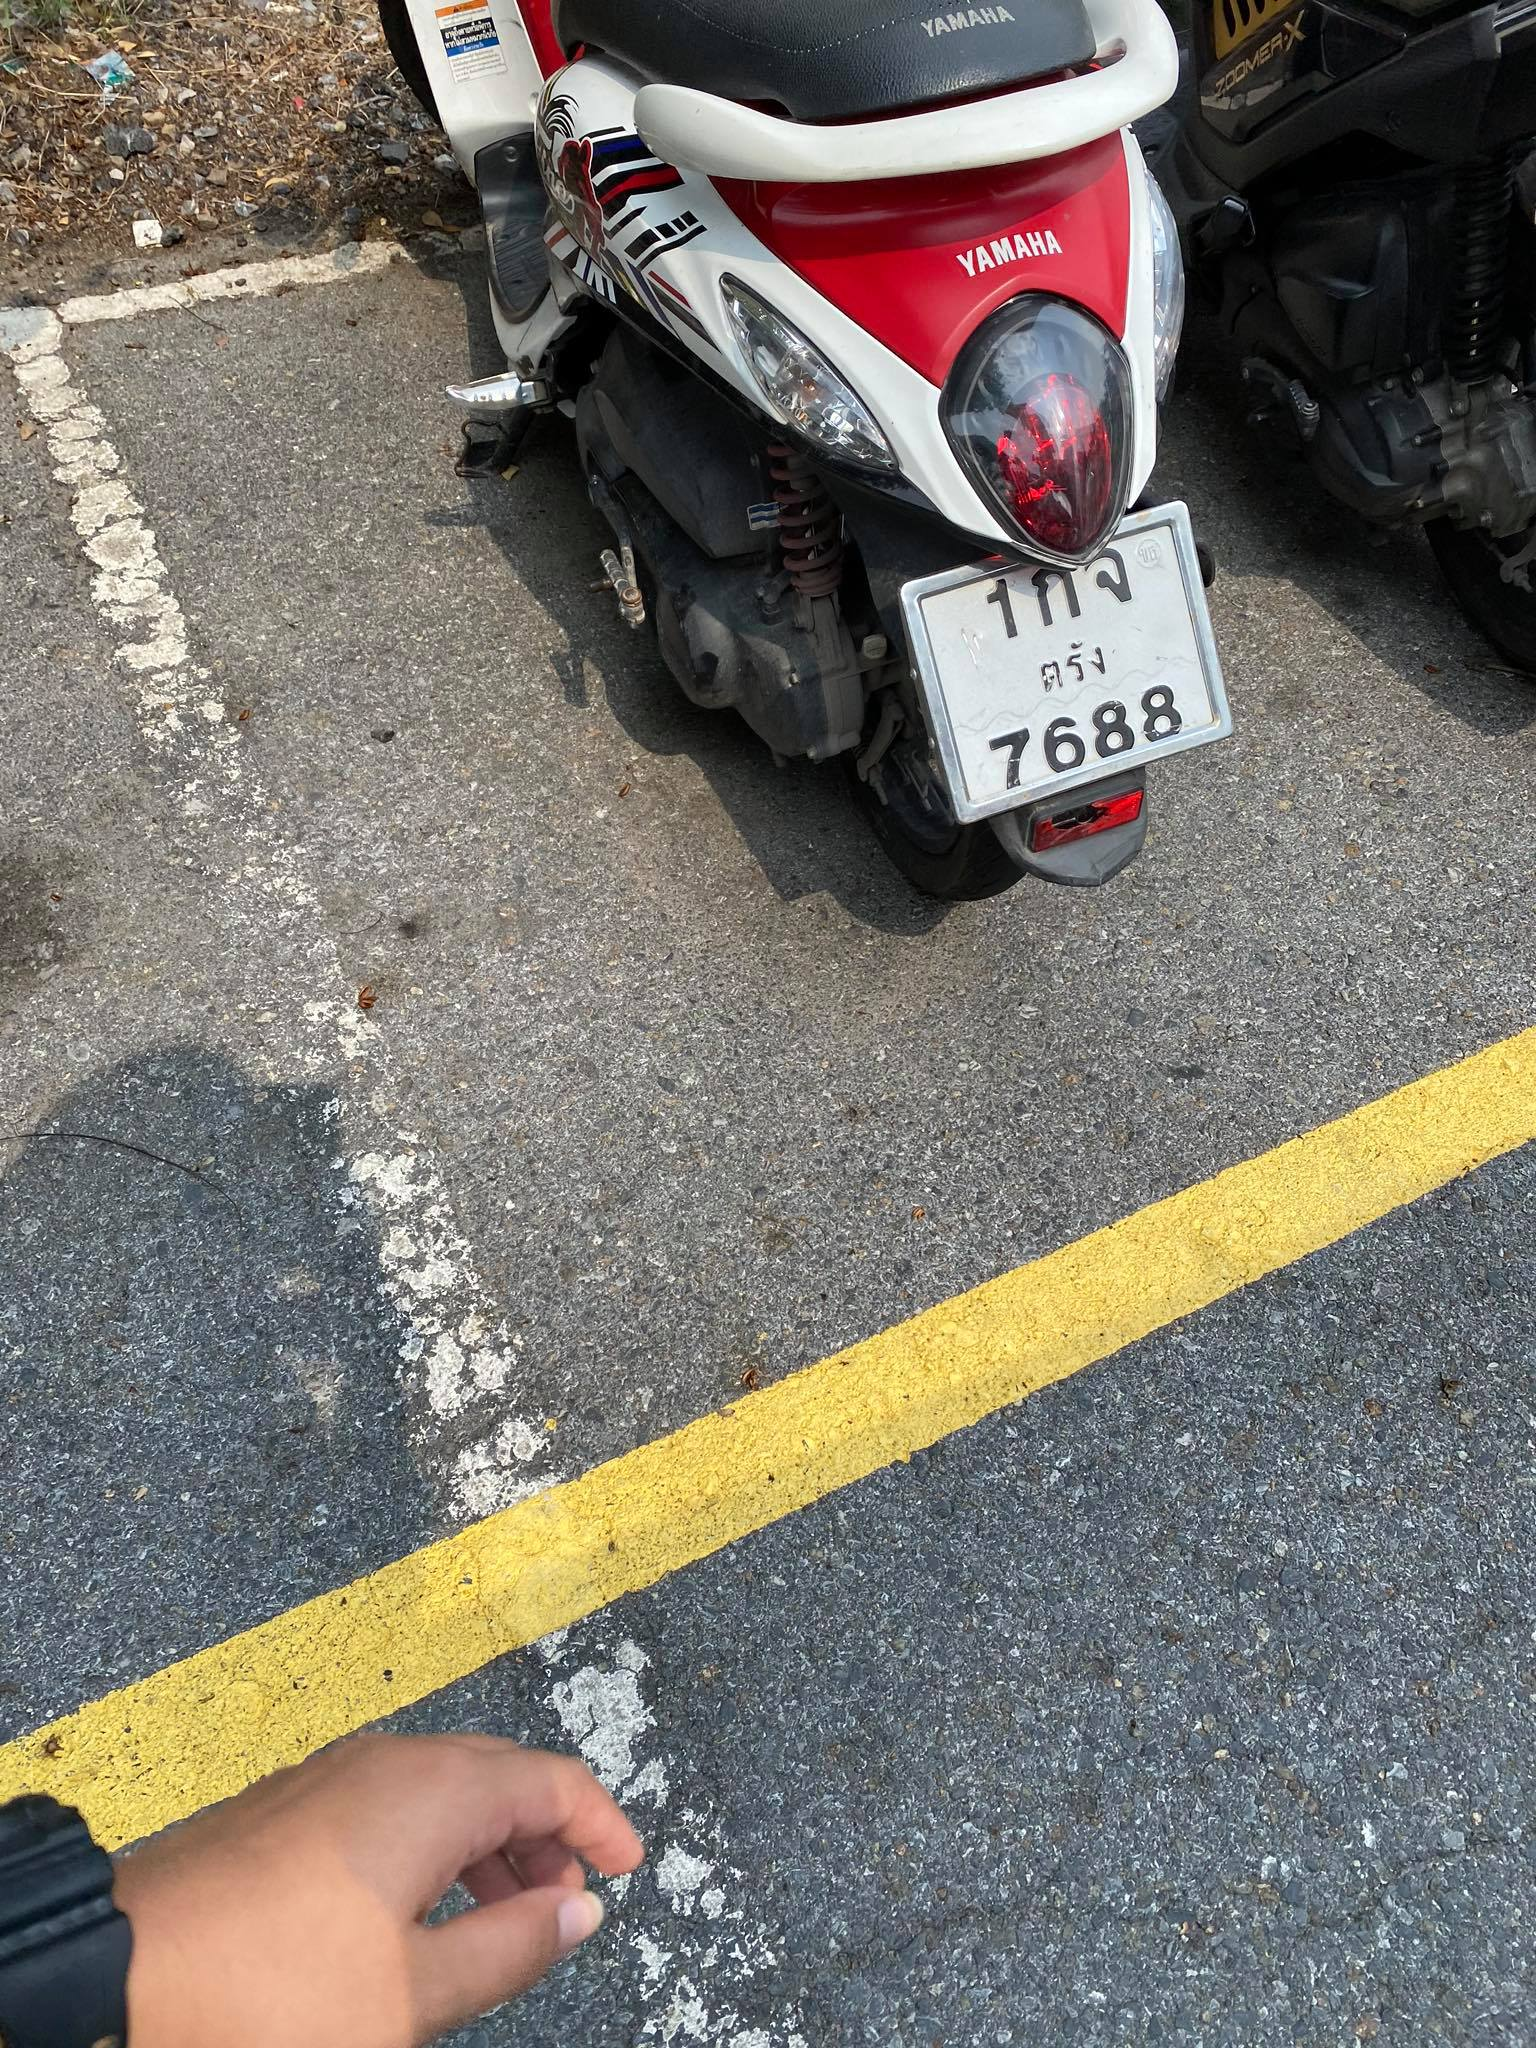line1: (970, 539, 1154, 639)
line2: (1016, 634, 1120, 695)
line3: (987, 684, 1183, 798)
